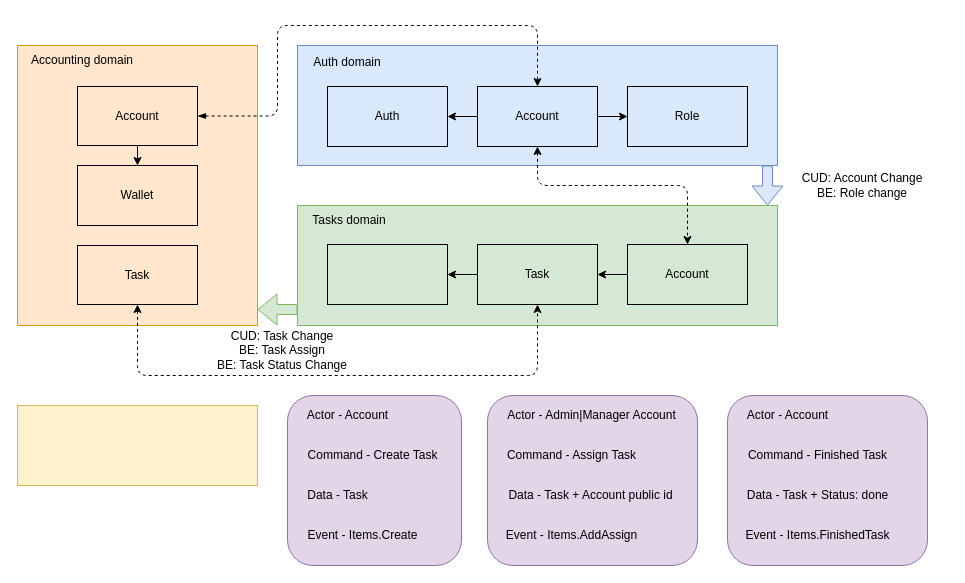
This 965x583 diagram has some shape labels left out. The shapes that lost their labels are listed below. From the top down, each one's centre as x and y in pixels, then its label:
[387,274]: Status
[137,445]: Analitics domain
